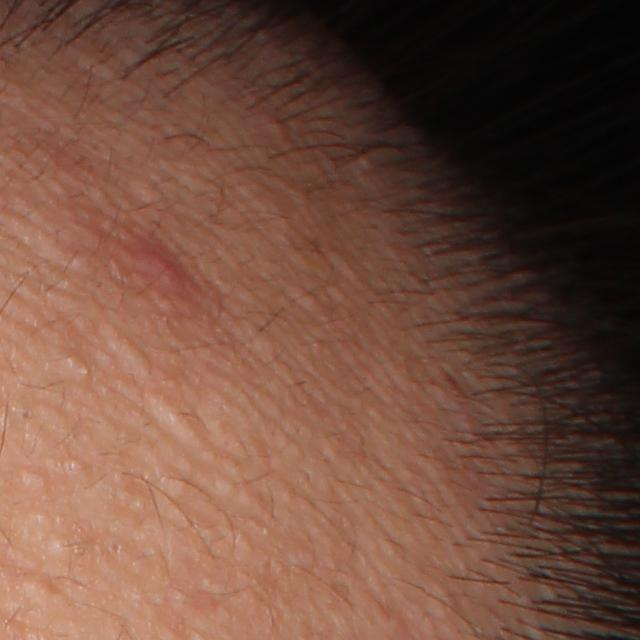comedo: (148, 391, 196, 436), (20, 573, 65, 610), (119, 346, 154, 380), (45, 528, 75, 562), (7, 402, 41, 430), (20, 467, 49, 492), (64, 353, 84, 370)
papule: (134, 243, 188, 288)
